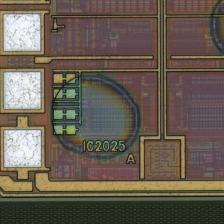COATING BAD: (49, 1, 224, 165)
